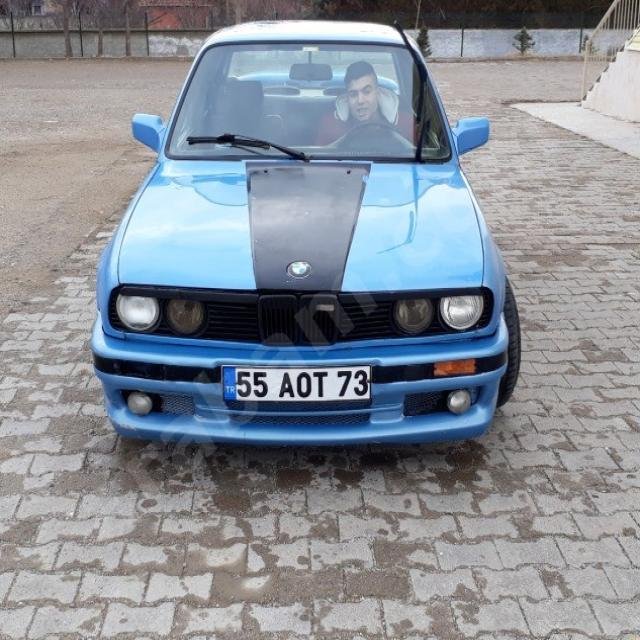license_plate: (222, 363, 371, 401)
